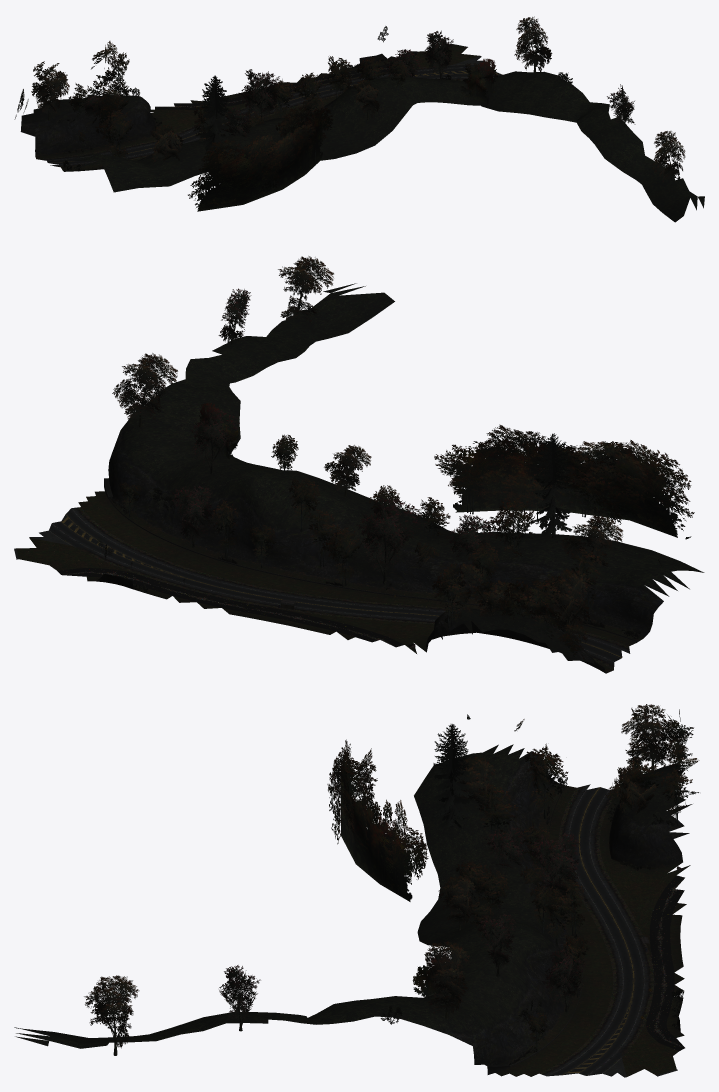
File: cell_7_-14.gltf
The picture shows the model from 3 angles, top to bottom: view 1: azimuth 30°, elevation 25°; view 2: azimuth 150°, elevation 25°; view 3: azimuth 270°, elevation 25°; orthographic projection. The views are drawn at different scales.
Visible parts, largest first — view 1: cell_7_-14; view 2: cell_7_-14; view 3: cell_7_-14.
Part boxes in pixels (left/top/right/bottom): cell_7_-14: left=14, top=16, right=704, bottom=222; cell_7_-14: left=14, top=256, right=704, bottom=673; cell_7_-14: left=14, top=704, right=699, bottom=1077.
Bounding box in the file's own units: 269 × 63.3 × 271.
Materials: 43 (43 with a texture image).
